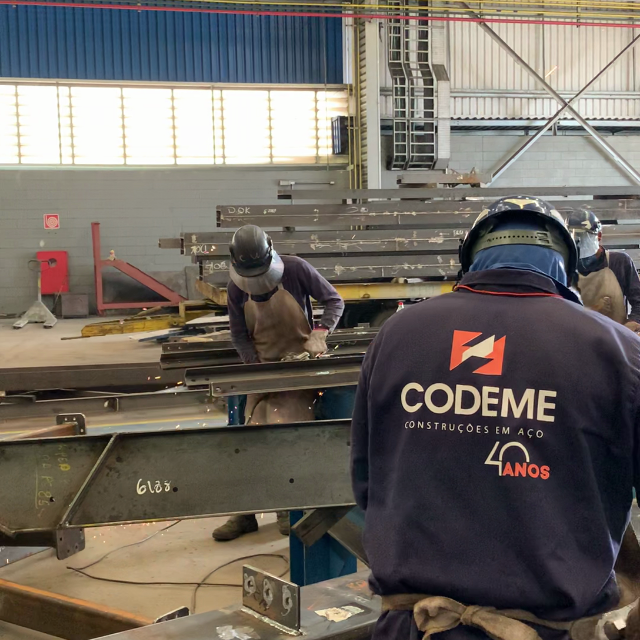face-shield: (227, 249, 285, 295), (571, 231, 601, 260)
glove: (304, 328, 328, 359), (626, 321, 640, 330)
helmet: (459, 195, 581, 283), (231, 224, 273, 279), (568, 205, 602, 230)
person: (349, 196, 637, 621), (226, 225, 345, 364), (563, 207, 640, 335)
safety-shoe: (212, 517, 261, 544), (275, 510, 290, 538)
